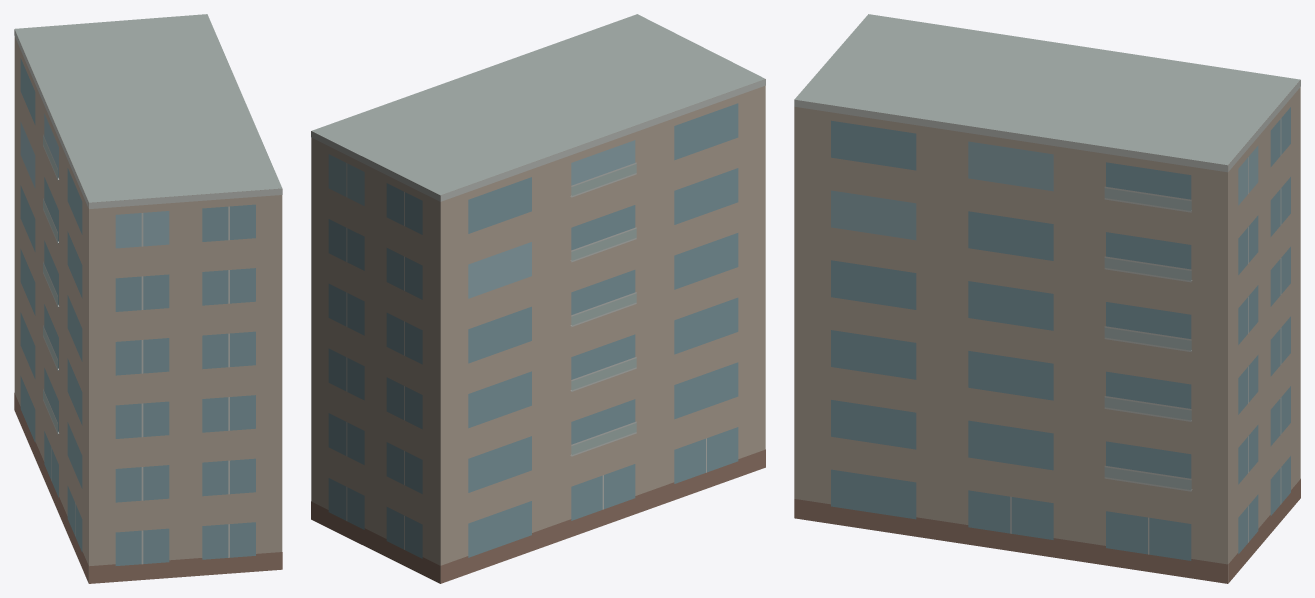
The model's file is survey-upis-32894356.glb.
The picture shows the model from 3 angles, left to right: view 1: azimuth 30°, elevation 25°; view 2: azimuth 150°, elevation 25°; view 3: azimuth 270°, elevation 25°; orthographic projection. The views are drawn at different scales.
Visible parts, largest first — view 1: survey-upis-32894356.tmp; view 2: survey-upis-32894356.tmp; view 3: survey-upis-32894356.tmp.
Part boxes in pixels (<box>): survey-upis-32894356.tmp: <box>14,14,282,583</box>; survey-upis-32894356.tmp: <box>311,14,765,583</box>; survey-upis-32894356.tmp: <box>794,14,1300,583</box>.
Bounding box in the file's own units: 11.17 × 14.4 × 15.8.
